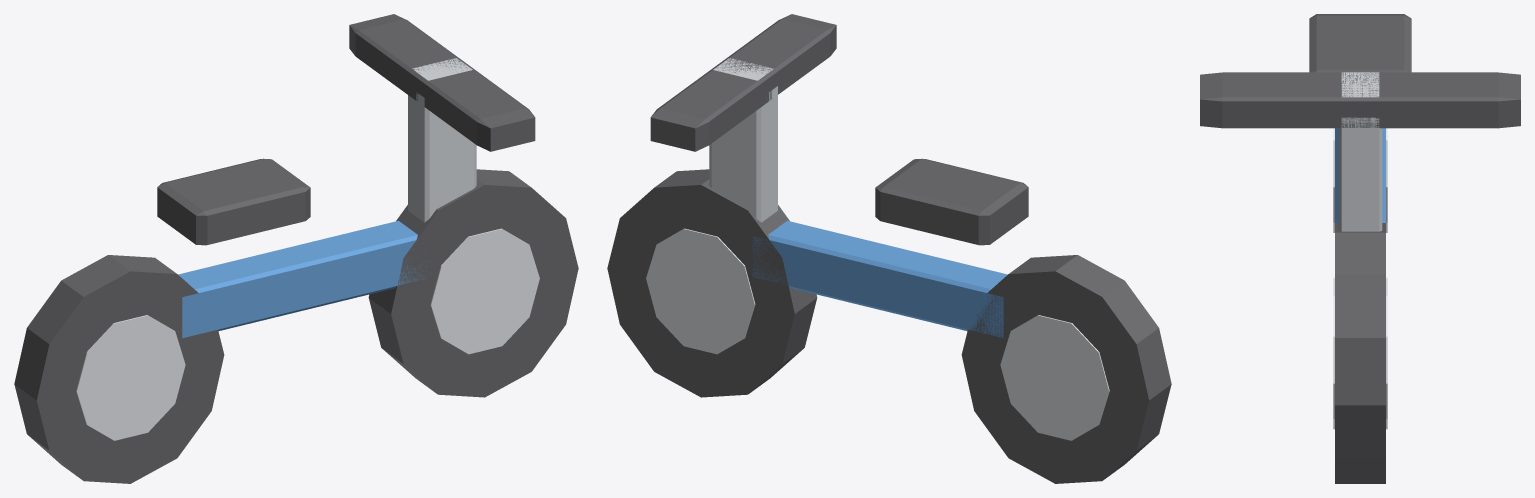
Rendered from b03_child_training_wheel_bicycle.glb.
The picture shows the model from 3 angles, left to right: view 1: azimuth 30°, elevation 25°; view 2: azimuth 150°, elevation 25°; view 3: azimuth 270°, elevation 25°; orthographic projection. The views are drawn at different scales.
Visible parts, largest first — view 1: b03_child_training_wheel_bicycle; view 2: b03_child_training_wheel_bicycle; view 3: b03_child_training_wheel_bicycle.
Part boxes in pixels (left/top/right/bottom): b03_child_training_wheel_bicycle: left=14, top=14, right=578, bottom=483; b03_child_training_wheel_bicycle: left=607, top=14, right=1171, bottom=483; b03_child_training_wheel_bicycle: left=1200, top=14, right=1520, bottom=483.
Size of the model in its own units: 1.35 by 0.78 by 0.61.
